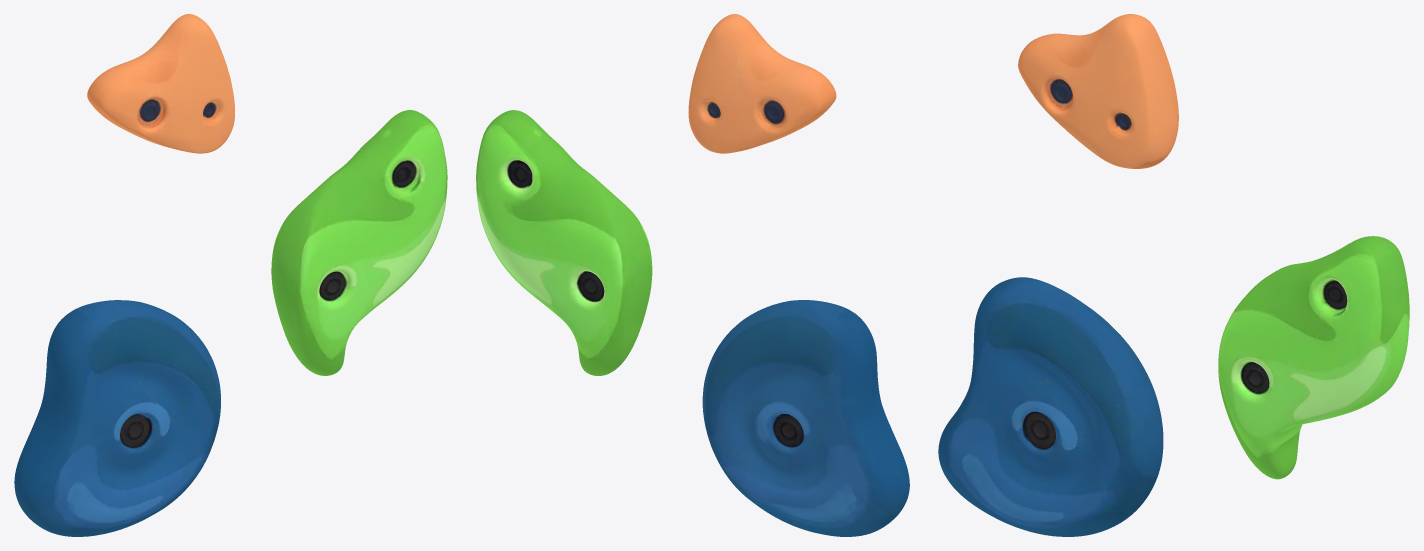
The model's file is Arrampicata.glb.
3 renders of one model, left to right at view 1: azimuth 30°, elevation 25°; view 2: azimuth 150°, elevation 25°; view 3: azimuth 330°, elevation 25°, orthographic. The views are drawn at different scales.
Bounding box in the file's own units: 1.7 × 1.9 × 0.2416.
Materials: 1 (1 with a texture image).
